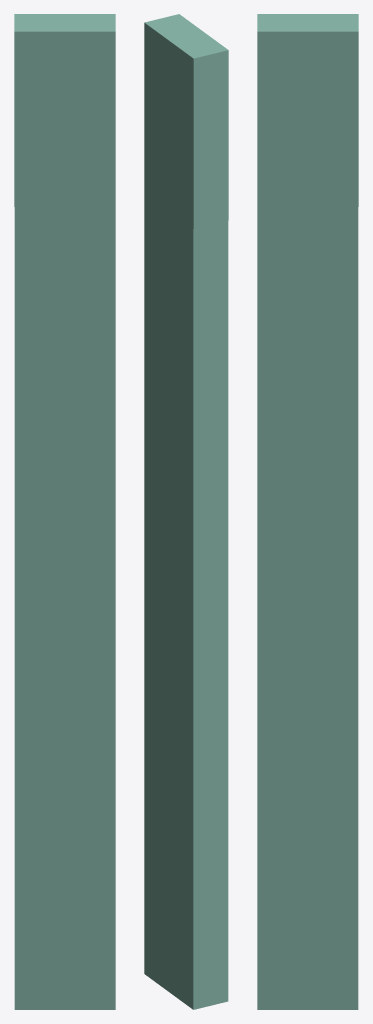
3 views of the same model, side by side, from view 1: azimuth 90°, elevation 25°; view 2: azimuth 210°, elevation 25°; view 3: azimuth 270°, elevation 25° (orthographic). The views are drawn at different scales.
Visible parts, largest first — view 1: Marina door left return mint wall; view 2: Marina door left return mint wall; view 3: Marina door left return mint wall.
Boxes of the visible parts, x1,y1,x2,y2 form: Marina door left return mint wall: (14,14,115,1009); Marina door left return mint wall: (144,14,228,1009); Marina door left return mint wall: (257,14,358,1009).
Size of the model in its own units: 0.0558 by 1.45 by 0.1364.
